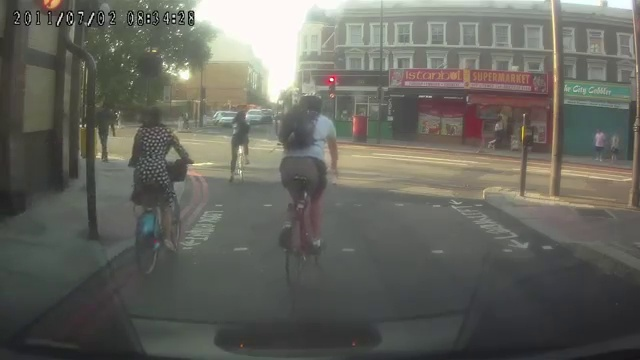cyclist_back: (276, 87, 343, 284), (127, 105, 199, 273), (225, 104, 253, 189)
